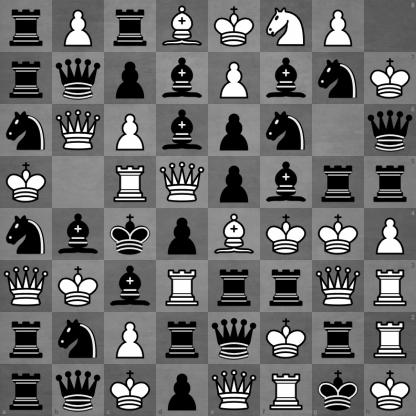B: (157, 1, 208, 52), (209, 209, 260, 260)
K: (104, 364, 156, 416), (364, 52, 416, 104), (364, 364, 416, 416), (1, 157, 52, 208), (53, 261, 104, 312), (209, 1, 260, 52), (261, 209, 312, 260), (261, 313, 312, 364), (313, 209, 364, 260)
N: (261, 1, 312, 52)
P: (364, 209, 416, 260), (53, 1, 104, 52), (105, 105, 156, 156), (105, 313, 156, 364), (209, 53, 260, 104), (313, 1, 364, 52)
Q: (209, 364, 260, 416), (1, 261, 52, 312), (53, 105, 104, 156), (157, 157, 208, 208), (313, 261, 364, 312)
R: (260, 364, 312, 416), (364, 260, 416, 312), (364, 312, 416, 364), (105, 157, 156, 208), (157, 261, 208, 312)
b: (53, 209, 104, 260), (105, 261, 156, 312), (157, 53, 208, 104), (157, 105, 208, 156), (261, 53, 312, 104), (261, 157, 312, 208)
board: (0, 0, 415, 415)
k: (312, 364, 364, 416), (105, 209, 156, 260)
n: (1, 105, 52, 156), (1, 209, 52, 260), (53, 313, 104, 364), (261, 105, 312, 156), (313, 53, 364, 104)
p: (156, 364, 209, 416), (105, 53, 156, 104), (157, 209, 208, 260), (209, 105, 260, 156), (209, 157, 260, 208)
q: (52, 364, 104, 416), (364, 104, 416, 156), (53, 53, 104, 104), (209, 313, 260, 364)
r: (364, 156, 416, 209), (0, 364, 52, 416), (1, 1, 52, 52), (1, 53, 52, 104), (1, 313, 52, 364), (105, 1, 156, 52), (157, 313, 208, 364), (209, 261, 260, 312), (261, 261, 312, 312), (313, 157, 364, 208), (313, 313, 364, 364)
